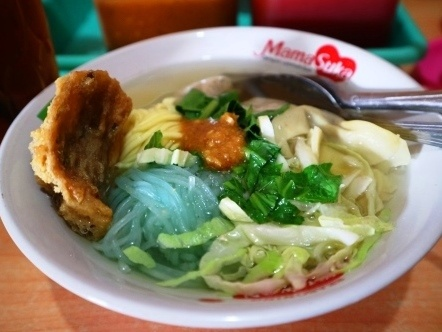bakso_malang: (27, 70, 411, 300)
